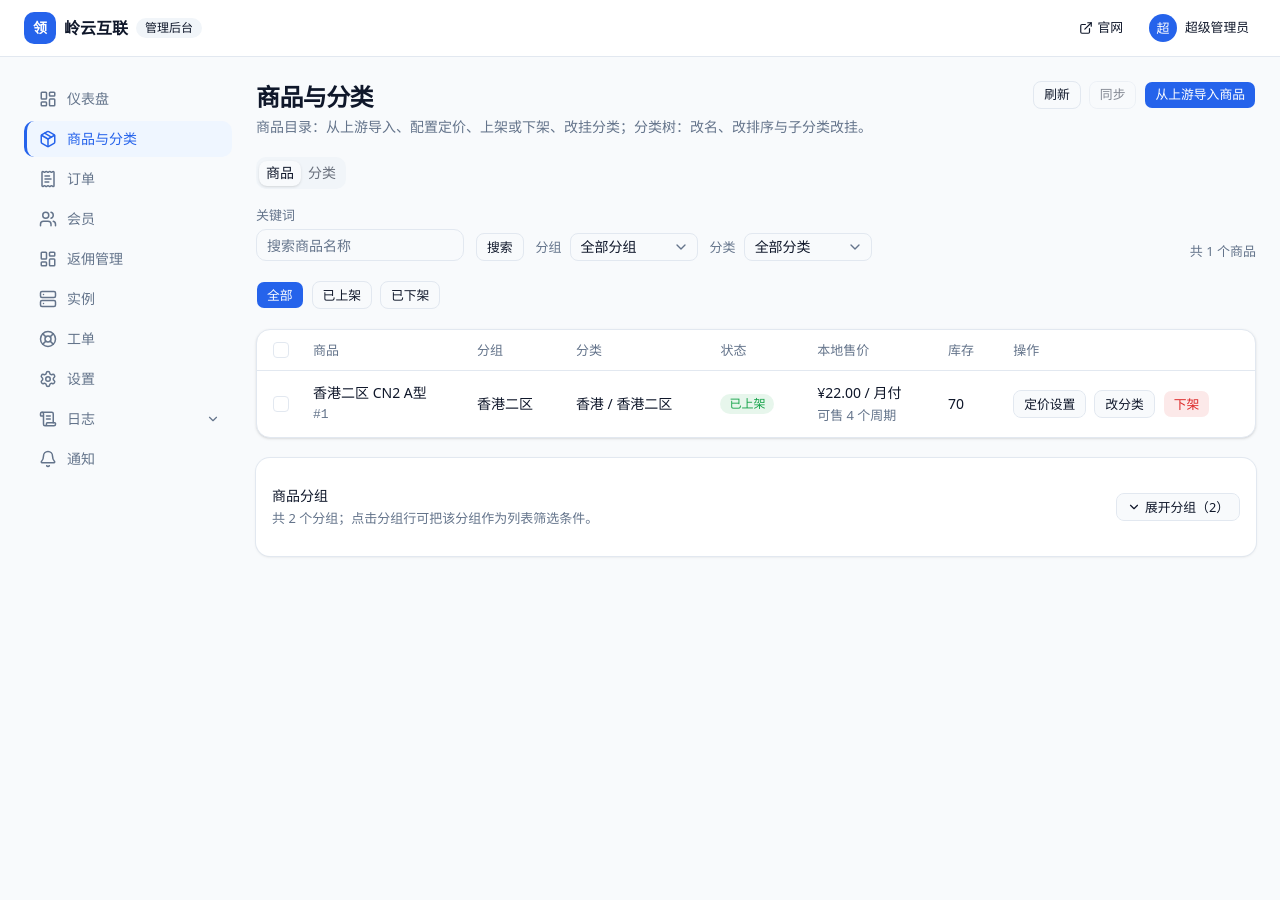
Scenario: 管理后台 · 商品管理 › 固定价模式：六个周期全留空时拦截提交
Expected: the heading "商品与分类" is shown, [256,80,373,113]
Expected: the text "香港二区 CN2 A型" is shown, [313,383,445,403]
Click the button "定价设置" at (1050, 404), box [1013,390,1086,418]
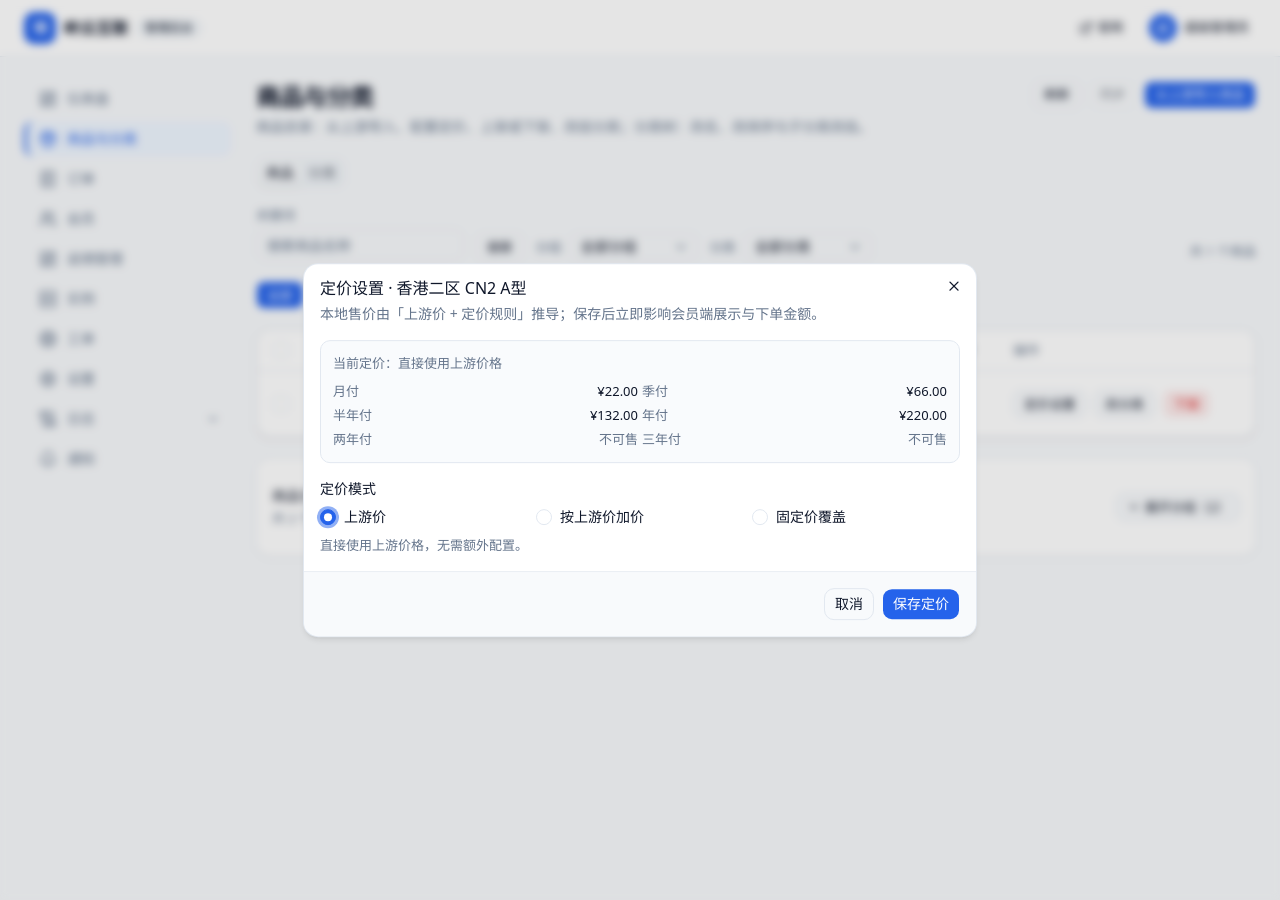
Click the radio button named "固定价覆盖" next to "固定价覆盖" at (760, 517), box [752,509,768,525]
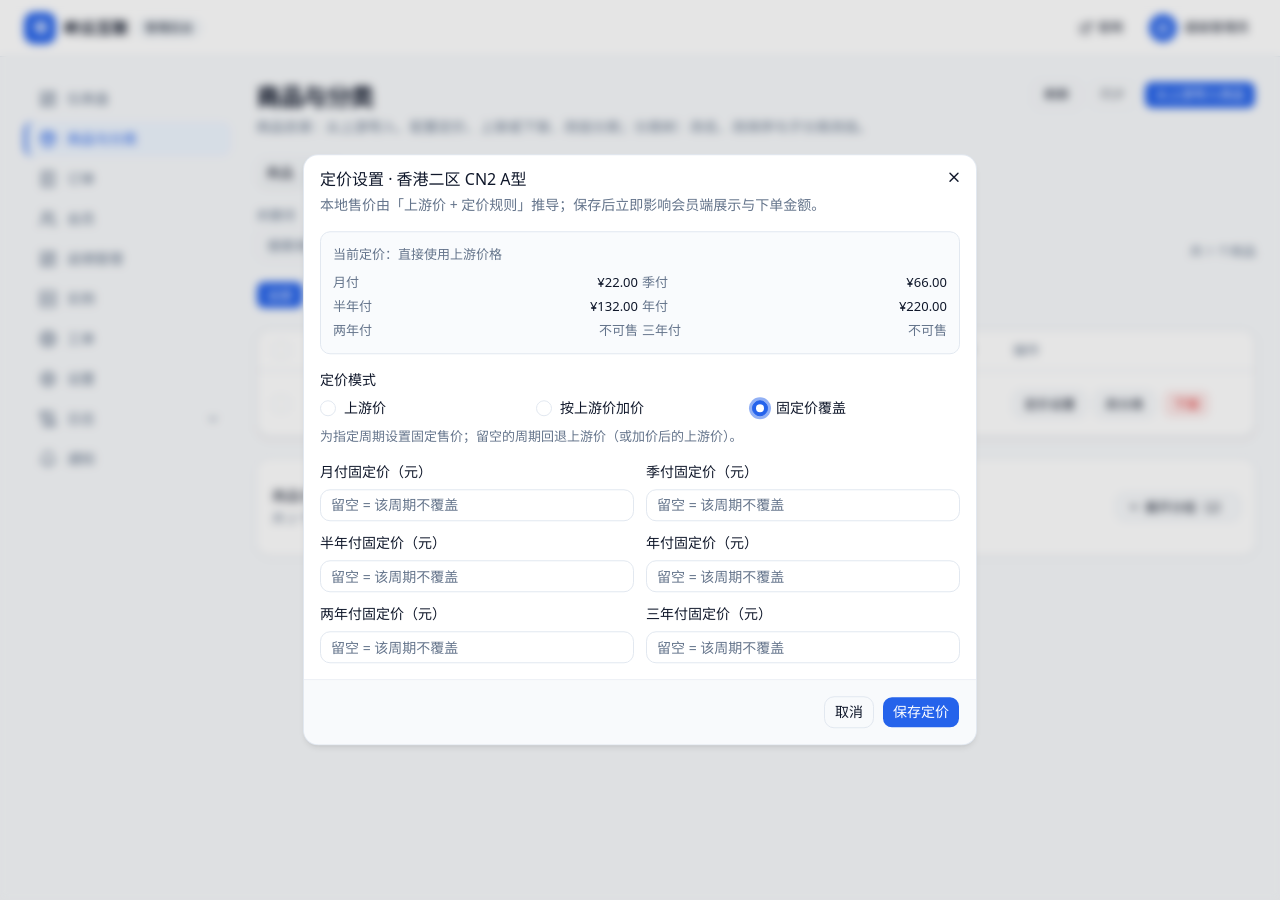
Click the button "保存定价" at (921, 713), box [882,697,960,729]
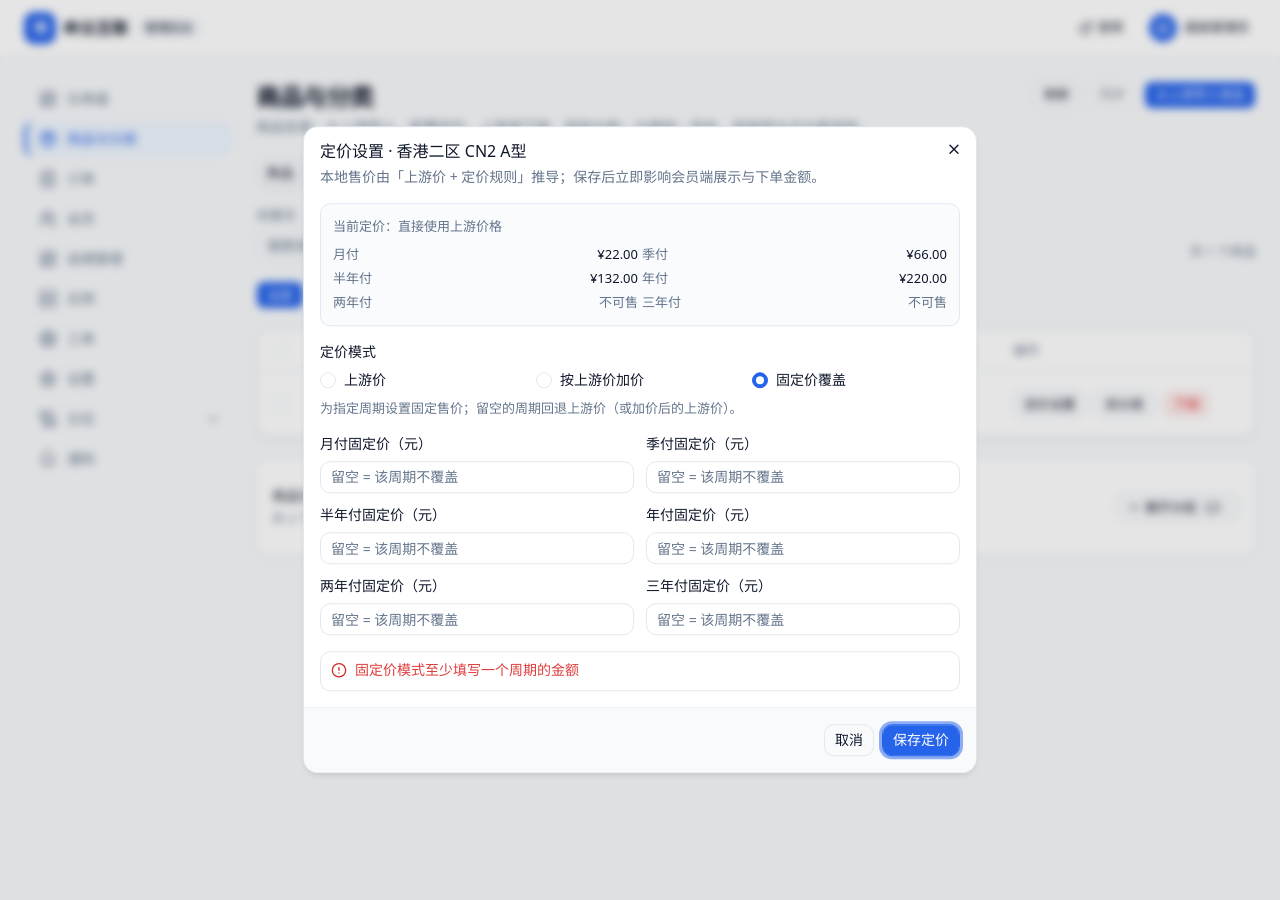
Expected: the text "固定价模式至少填写一个周期的金额" is shown, [355,661,579,680]
